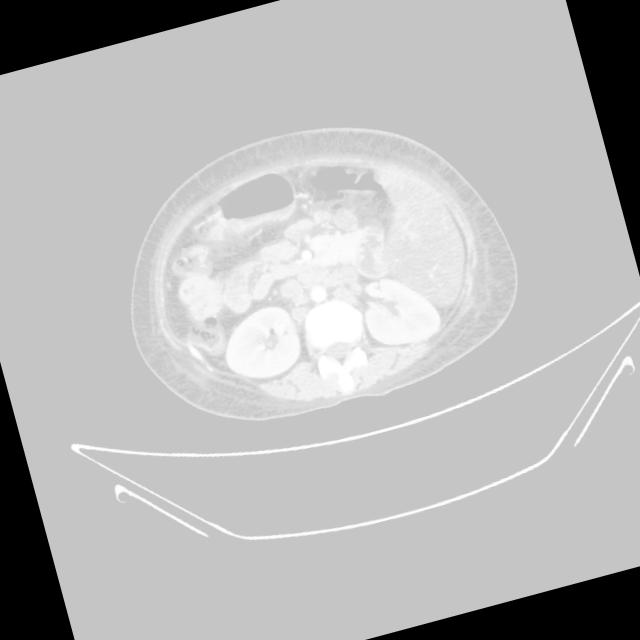NORMAL: (98, 96, 540, 471)
